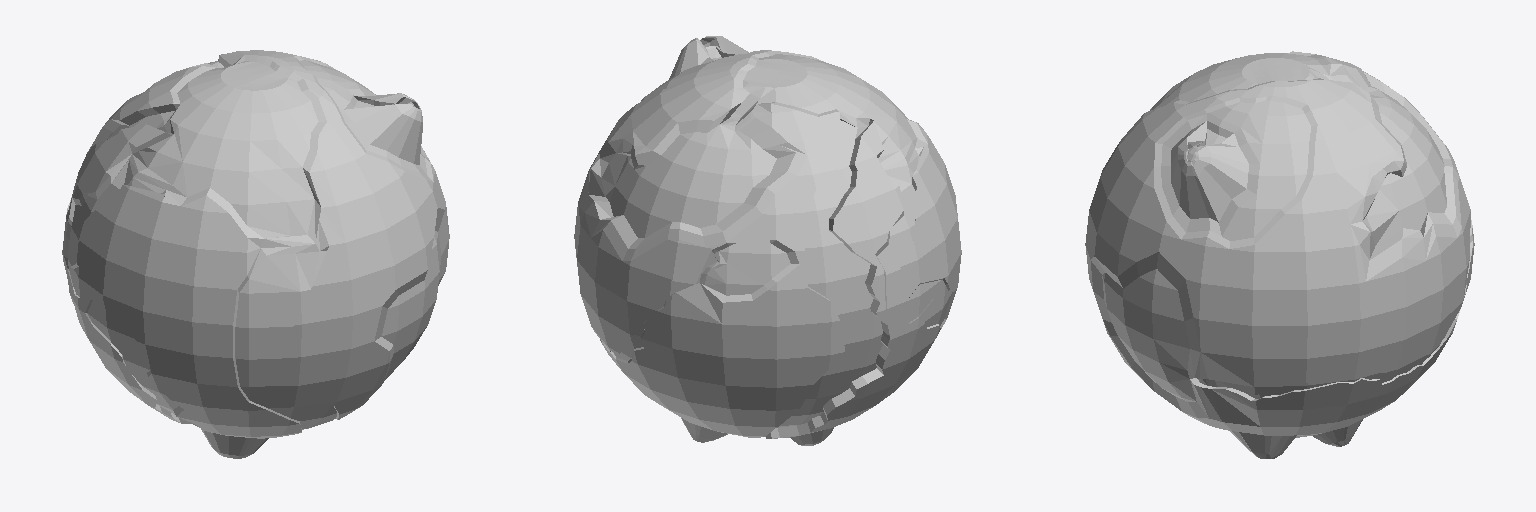
Rendered from volcan 1.obj.
3 renders of one model, left to right at view 1: azimuth 30°, elevation 25°; view 2: azimuth 150°, elevation 25°; view 3: azimuth 270°, elevation 25°, orthographic.
Visible parts, largest first — view 1: Esfera; view 2: Esfera; view 3: Esfera.
Boxes of the visible parts, x1,y1,x2,y2 form: Esfera: [62, 50, 449, 458]; Esfera: [574, 36, 961, 445]; Esfera: [1085, 51, 1474, 458].
Bounding box in the file's own units: 1.98 × 2.1 × 2.